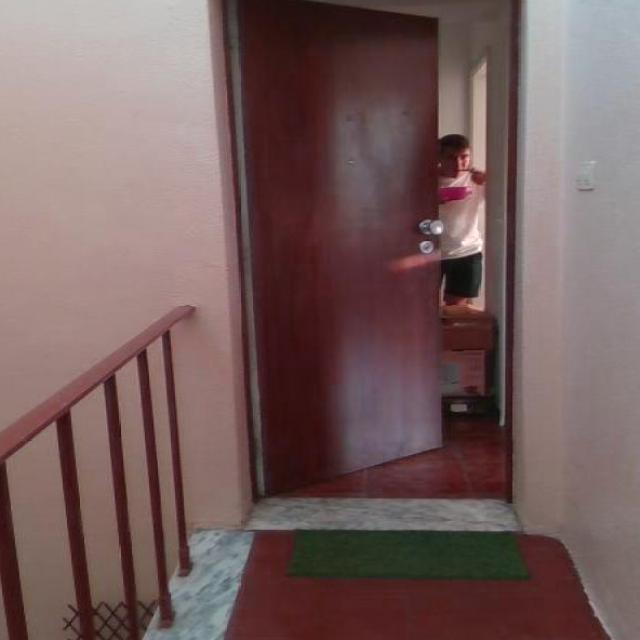door: (233, 0, 445, 496)
